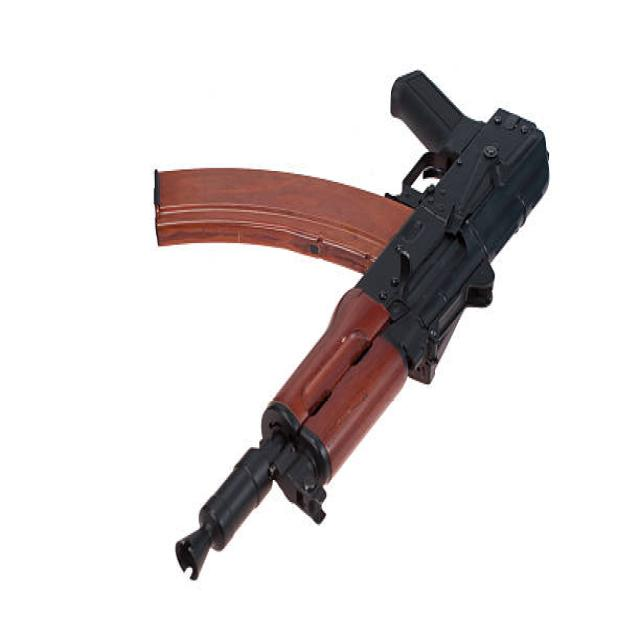rifle: (146, 66, 558, 591)
